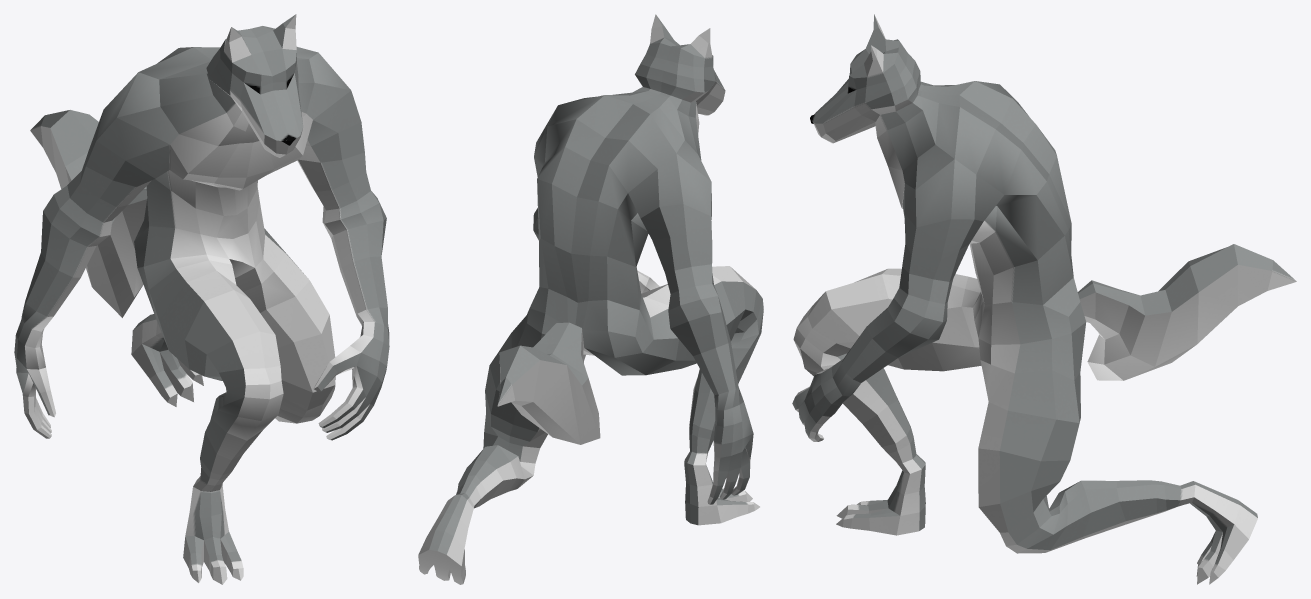
File: WolfWalk(33).obj
The picture shows the model from 3 angles, left to right: view 1: azimuth 30°, elevation 25°; view 2: azimuth 150°, elevation 25°; view 3: azimuth 270°, elevation 25°; orthographic projection. The views are drawn at different scales.
Parts seen in each view (by area): view 1: Box001; view 2: Box001; view 3: Box001.
Boxes of the visible parts, left/top/right/bottom form: Box001: left=14, top=14, right=389, bottom=584; Box001: left=418, top=14, right=763, bottom=584; Box001: left=792, top=14, right=1296, bottom=584.
Bounding box in the file's own units: 70.38 × 120 × 106.
